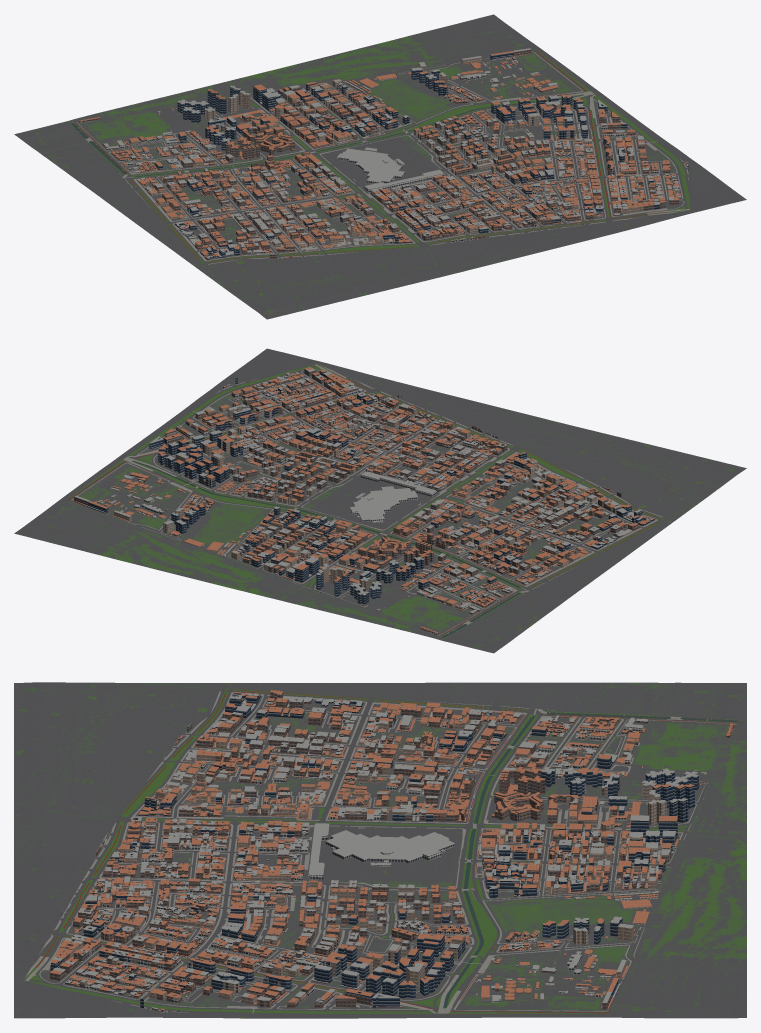
File: ciudad.glb
The picture shows the model from 3 angles, top to bottom: view 1: azimuth 30°, elevation 25°; view 2: azimuth 150°, elevation 25°; view 3: azimuth 270°, elevation 25°; orthographic projection. The views are drawn at different scales.
Parts seen in each view (by area): view 1: UNICENTRO_T11, UNICENTRO_T10, UNICENTRO_T22, UNICENTRO_T01, UNICENTRO_T20, UNICENTRO_T00, UNICENTRO_T02, UNICENTRO_T12, UNICENTRO_T31, UNICENTRO_T21, UNICENTRO_T30, UNICENTRO_T32 (+4 smaller); view 2: UNICENTRO_T11, UNICENTRO_T01, UNICENTRO_T22, UNICENTRO_T02, UNICENTRO_T20, UNICENTRO_T10, UNICENTRO_T12, UNICENTRO_T00, UNICENTRO_T32, UNICENTRO_T21, UNICENTRO_T30, UNICENTRO_T31 (+4 smaller); view 3: UNICENTRO_T11, UNICENTRO_T22, UNICENTRO_T02, UNICENTRO_T00, UNICENTRO_T20, UNICENTRO_T10, UNICENTRO_T01, UNICENTRO_T12, UNICENTRO_T21, UNICENTRO_T32, UNICENTRO_T31, UNICENTRO_T30 (+4 smaller).
Boxes of the visible parts, bbox=[...] form: UNICENTRO_T11: bbox=[250, 148, 444, 236]; UNICENTRO_T10: bbox=[320, 207, 511, 289]; UNICENTRO_T22: bbox=[302, 62, 497, 152]; UNICENTRO_T01: bbox=[126, 185, 323, 267]; UNICENTRO_T20: bbox=[439, 177, 633, 259]; UNICENTRO_T00: bbox=[196, 236, 388, 319]; UNICENTRO_T02: bbox=[55, 131, 245, 215]; UNICENTRO_T12: bbox=[184, 99, 363, 186]; UNICENTRO_T31: bbox=[499, 96, 675, 178]; UNICENTRO_T21: bbox=[381, 122, 563, 206]; UNICENTRO_T30: bbox=[565, 148, 746, 228]; UNICENTRO_T32: bbox=[427, 44, 605, 123]; UNICENTRO_T11: bbox=[353, 457, 553, 538]; UNICENTRO_T01: bbox=[484, 484, 675, 571]; UNICENTRO_T22: bbox=[163, 474, 358, 558]; UNICENTRO_T02: bbox=[413, 539, 604, 623]; UNICENTRO_T20: bbox=[311, 377, 501, 460]; UNICENTRO_T10: bbox=[433, 408, 623, 487]; UNICENTRO_T12: bbox=[293, 514, 484, 592]; UNICENTRO_T00: bbox=[558, 438, 746, 519]; UNICENTRO_T32: bbox=[55, 451, 236, 530]; UNICENTRO_T21: bbox=[240, 428, 430, 508]; UNICENTRO_T30: bbox=[197, 348, 379, 428]; UNICENTRO_T31: bbox=[126, 400, 310, 478]; UNICENTRO_T11: bbox=[215, 762, 454, 879]; UNICENTRO_T22: bbox=[420, 845, 635, 942]; UNICENTRO_T02: bbox=[420, 682, 631, 769]; UNICENTRO_T00: bbox=[14, 682, 218, 769]; UNICENTRO_T20: bbox=[14, 847, 223, 941]; UNICENTRO_T10: bbox=[14, 763, 221, 857]; UNICENTRO_T01: bbox=[213, 683, 424, 773]; UNICENTRO_T12: bbox=[414, 761, 628, 855]; UNICENTRO_T21: bbox=[215, 849, 427, 942]; UNICENTRO_T32: bbox=[417, 926, 628, 1017]; UNICENTRO_T31: bbox=[211, 932, 427, 1018]; UNICENTRO_T30: bbox=[14, 932, 222, 1018].
Bounding box in the file's own units: 1960 × 63.26 × 1790.
Materials: 30 (29 with a texture image).
